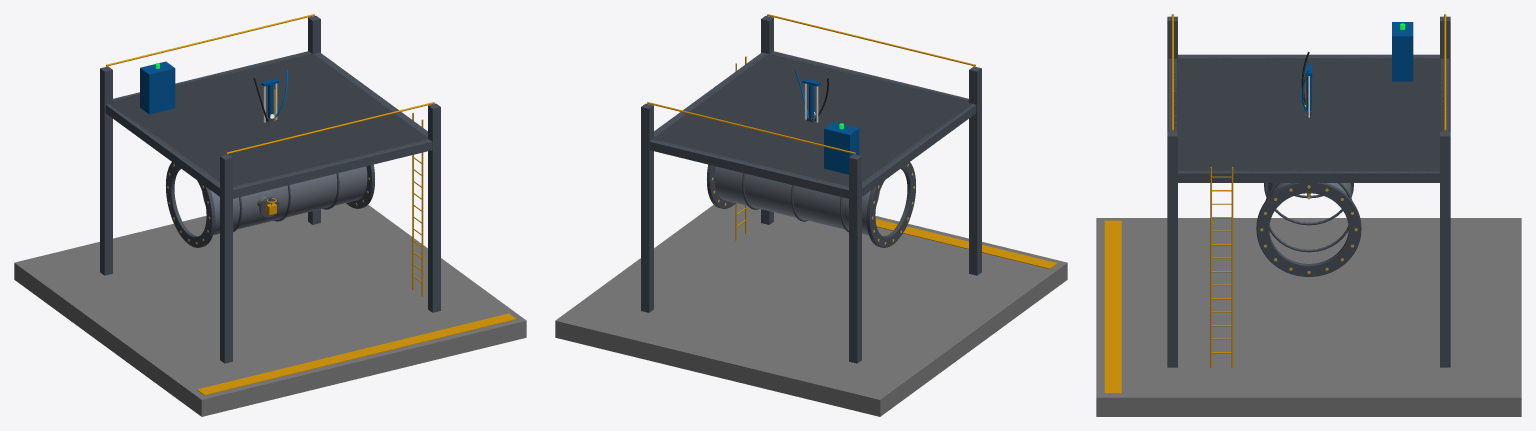
File: cement_plant_duct_cleaning_system.glb
3 renders of one model, left to right at view 1: azimuth 30°, elevation 25°; view 2: azimuth 150°, elevation 25°; view 3: azimuth 270°, elevation 25°, orthographic. The views are drawn at different scales.
Parts seen in each view (by area): view 1: CementPlantGasConditioningDuctSystem, StraightCircularDuct, LechlerRetractableSprayLance; view 2: CementPlantGasConditioningDuctSystem, StraightCircularDuct, LechlerRetractableSprayLance; view 3: CementPlantGasConditioningDuctSystem, StraightCircularDuct, LechlerRetractableSprayLance.
Boxes of the visible parts, box(x1,y1,x2,y2) form: CementPlantGasConditioningDuctSystem: box(14, 14, 526, 416); StraightCircularDuct: box(166, 162, 374, 247); LechlerRetractableSprayLance: box(253, 70, 287, 122); CementPlantGasConditioningDuctSystem: box(555, 14, 1067, 416); StraightCircularDuct: box(707, 162, 915, 247); LechlerRetractableSprayLance: box(795, 70, 828, 122); CementPlantGasConditioningDuctSystem: box(1096, 14, 1521, 416); StraightCircularDuct: box(1256, 183, 1361, 276); LechlerRetractableSprayLance: box(1301, 52, 1312, 117).
Bounding box in the file's own units: 10 × 6.91 × 10.
